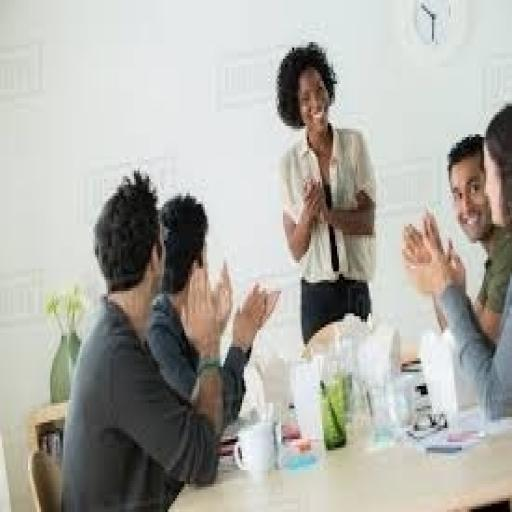clapping: (58, 168, 281, 509), (388, 118, 512, 512), (274, 39, 378, 347)
